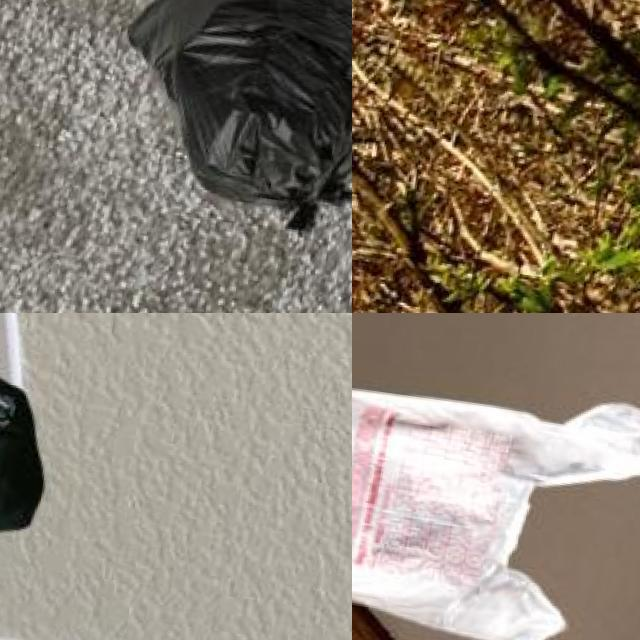waste: (352, 354, 640, 640), (104, 0, 352, 229), (0, 365, 56, 531)
